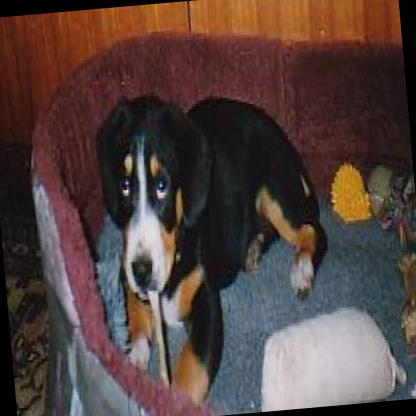EntleBucher: (91, 76, 339, 408)
